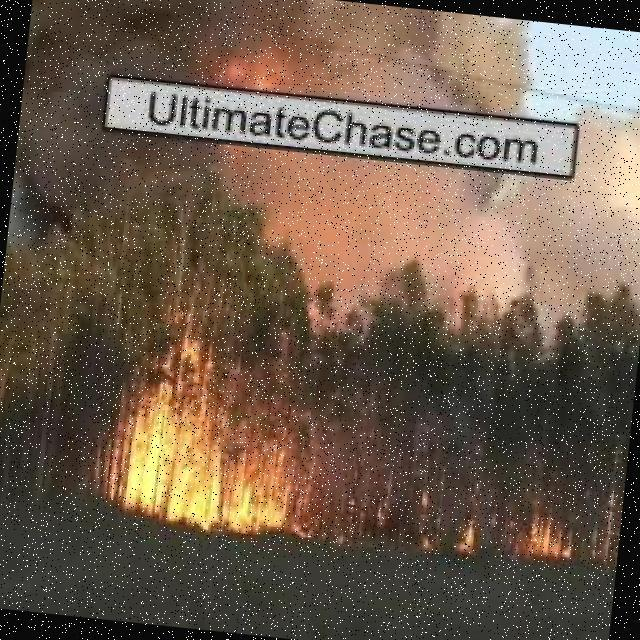Fire: (98, 327, 330, 541), (407, 477, 485, 562), (522, 502, 580, 568)
